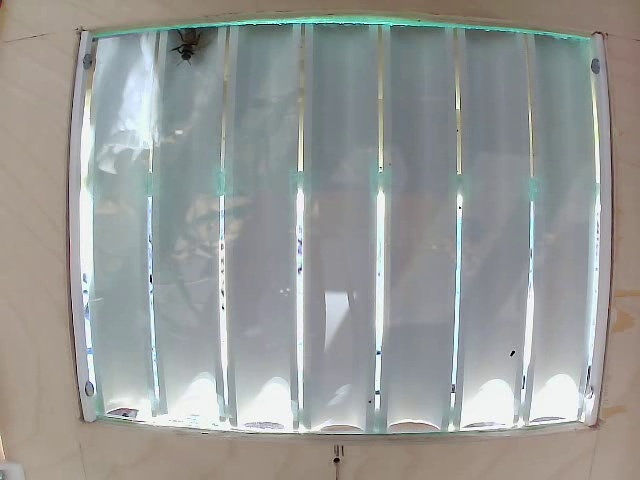bee: (170, 17, 214, 69)
